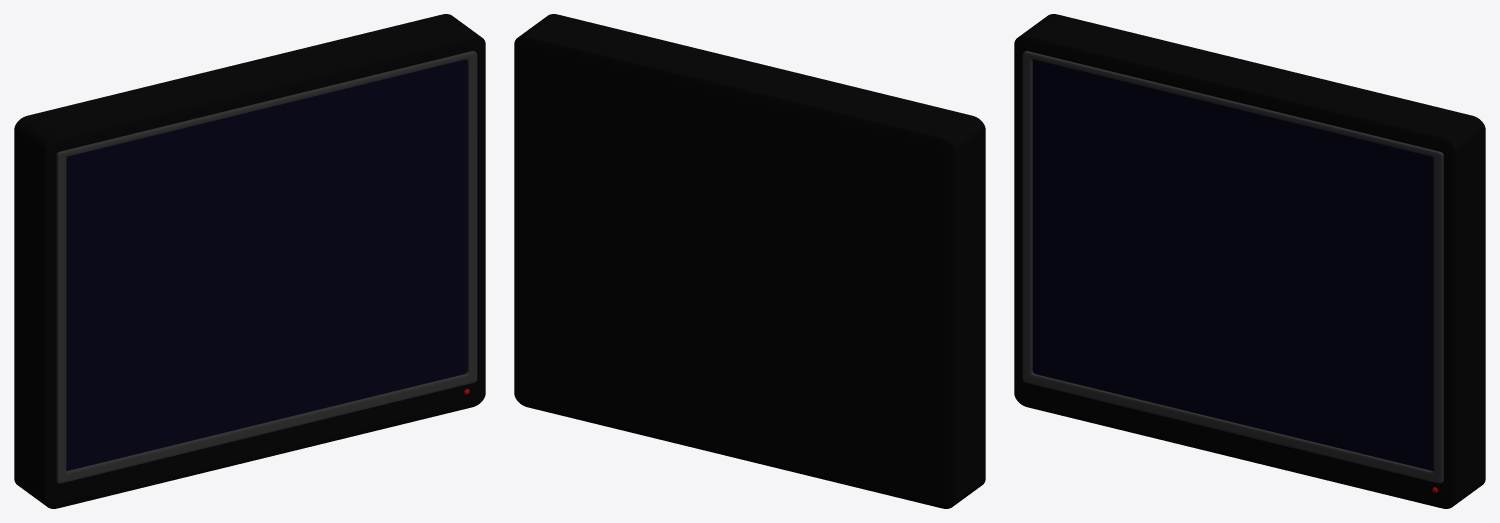
The model's file is Screen.fbx.
The picture shows the model from 3 angles, left to right: view 1: azimuth 30°, elevation 25°; view 2: azimuth 150°, elevation 25°; view 3: azimuth 330°, elevation 25°; orthographic projection.
Visible parts, largest first — view 1: Cube.007, Cube.006, Cube.017; view 2: Cube.006; view 3: Cube.007, Cube.006, Cube.017.
Boxes of the visible parts, <box> form: Cube.007: <box>66,59,467,470</box>; Cube.006: <box>14,14,485,508</box>; Cube.017: <box>56,51,477,483</box>; Cube.006: <box>514,14,985,508</box>; Cube.007: <box>1032,59,1433,470</box>; Cube.006: <box>1014,14,1485,508</box>; Cube.017: <box>1022,51,1443,483</box>.
Size of the model in its own units: 400 by 321 by 52.91.
